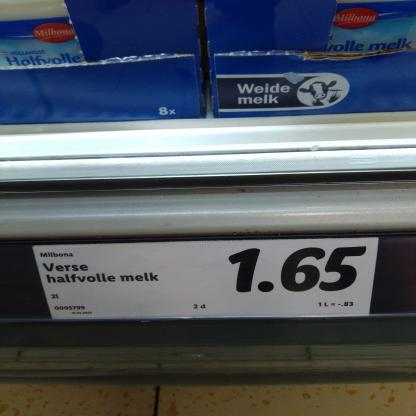prtg: (33, 238, 380, 321)
